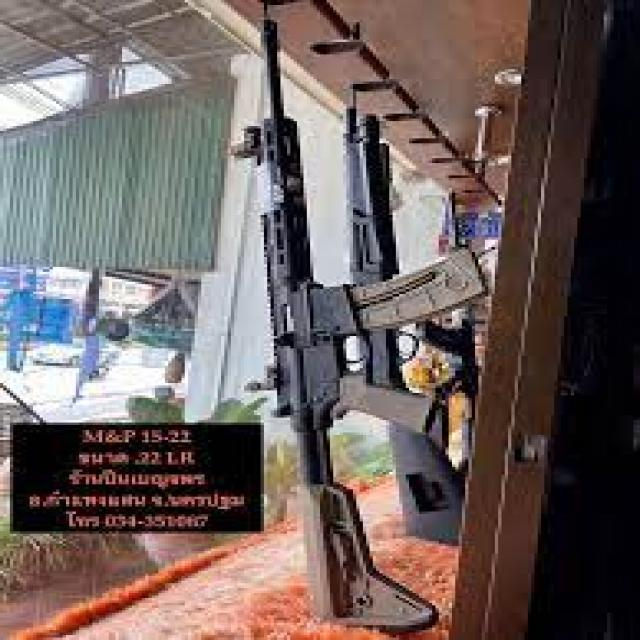m16: (242, 80, 442, 622)
